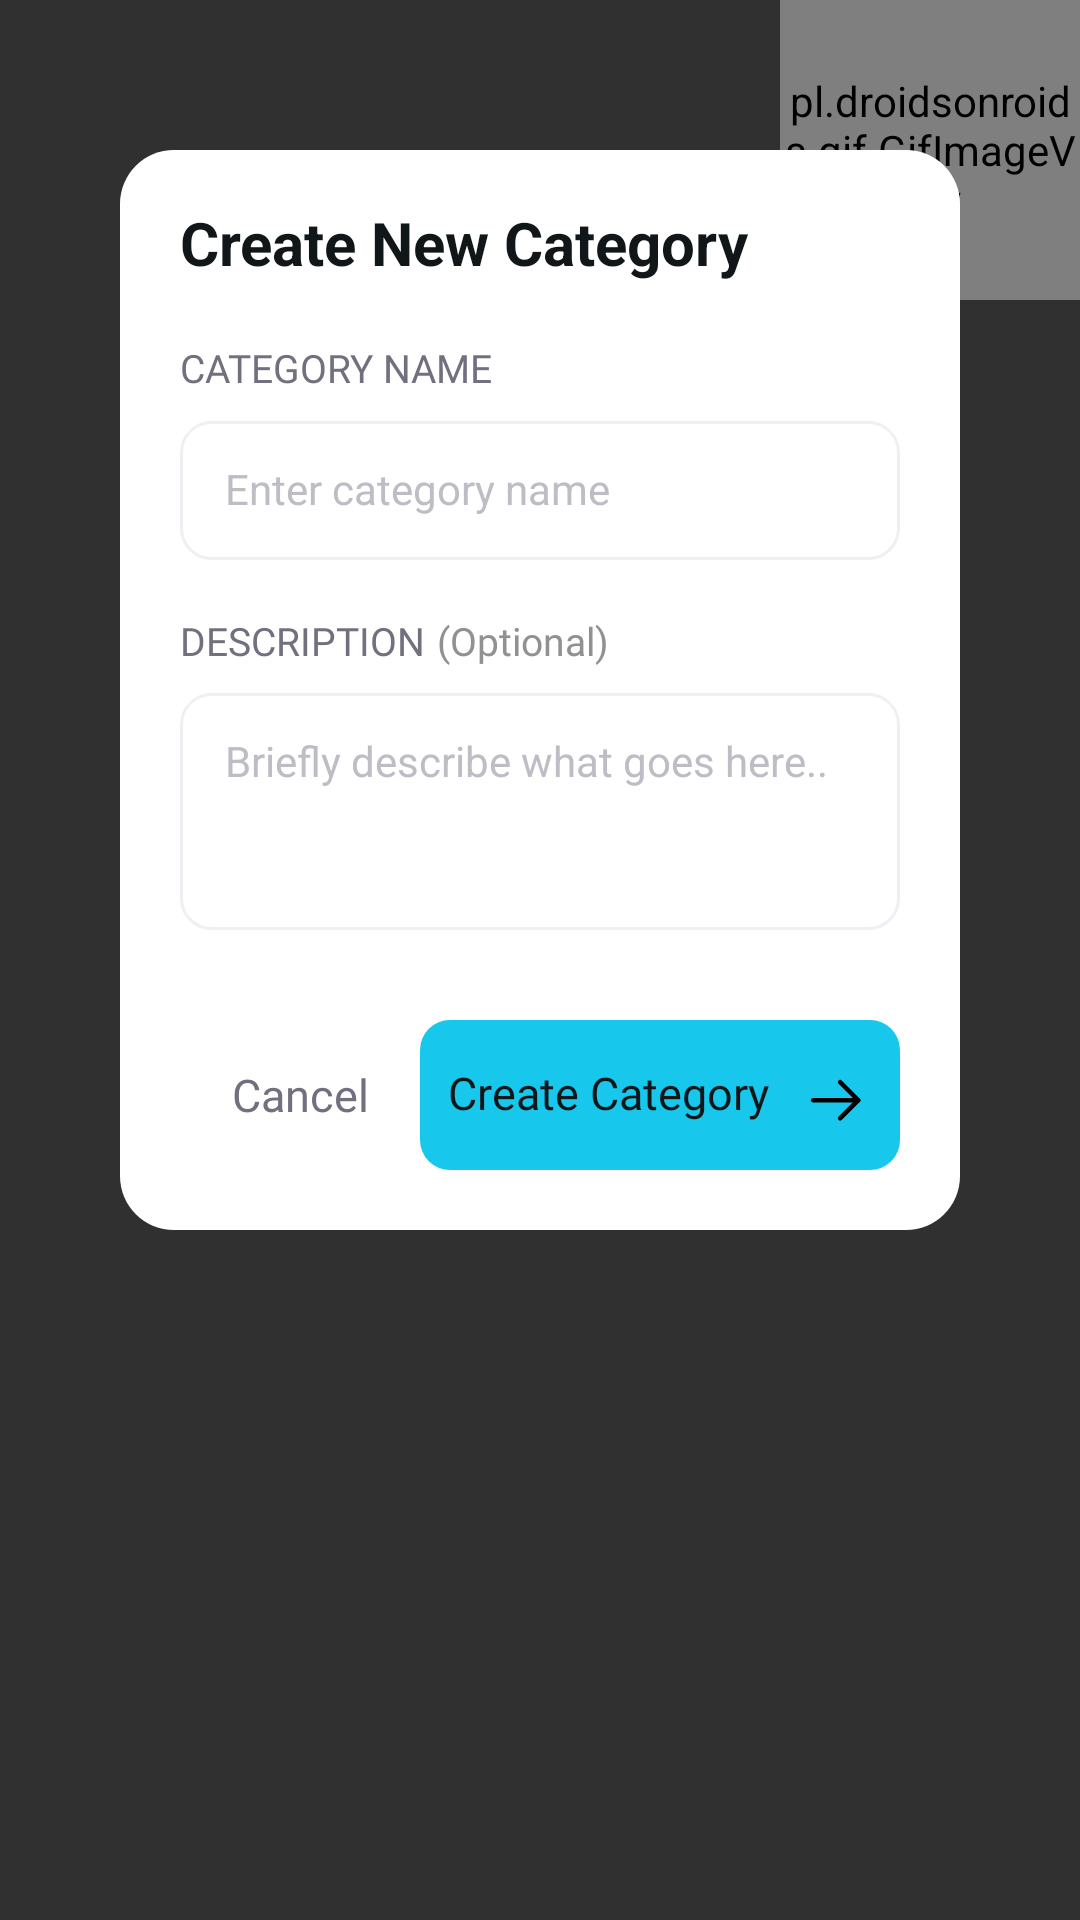

Icon click points for this 1080px×1920px phone screenshot, format point (x, y):
director right: point (836, 1100)
